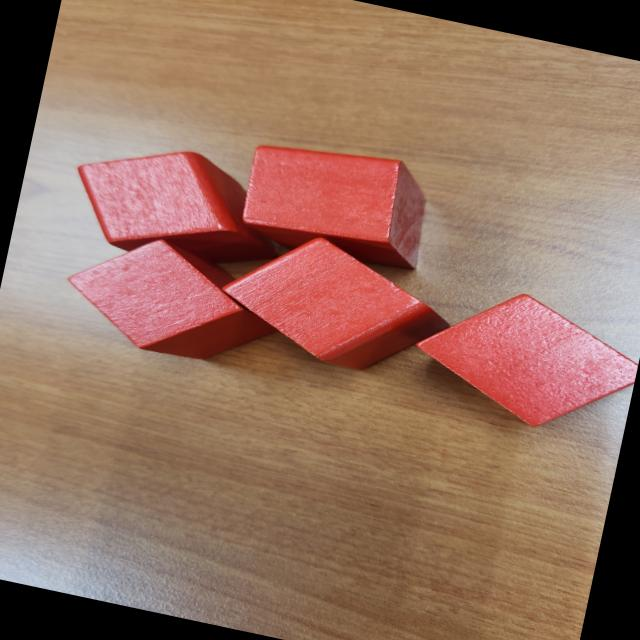red: (209, 218, 463, 388), (400, 272, 640, 445), (54, 221, 294, 377), (61, 129, 300, 285), (234, 130, 438, 278)
